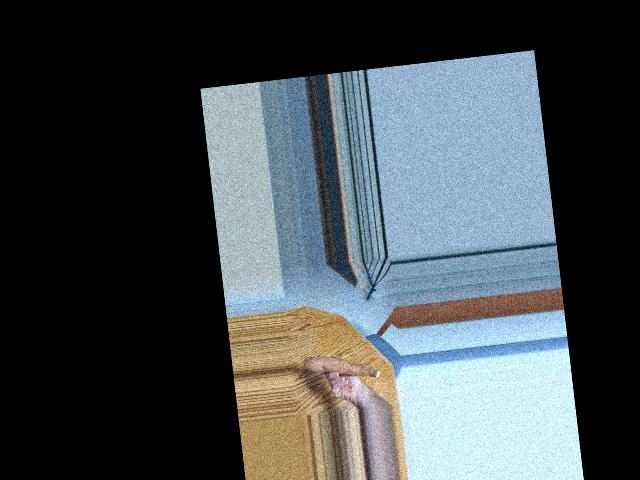sweet_potato: (305, 345, 378, 386)
